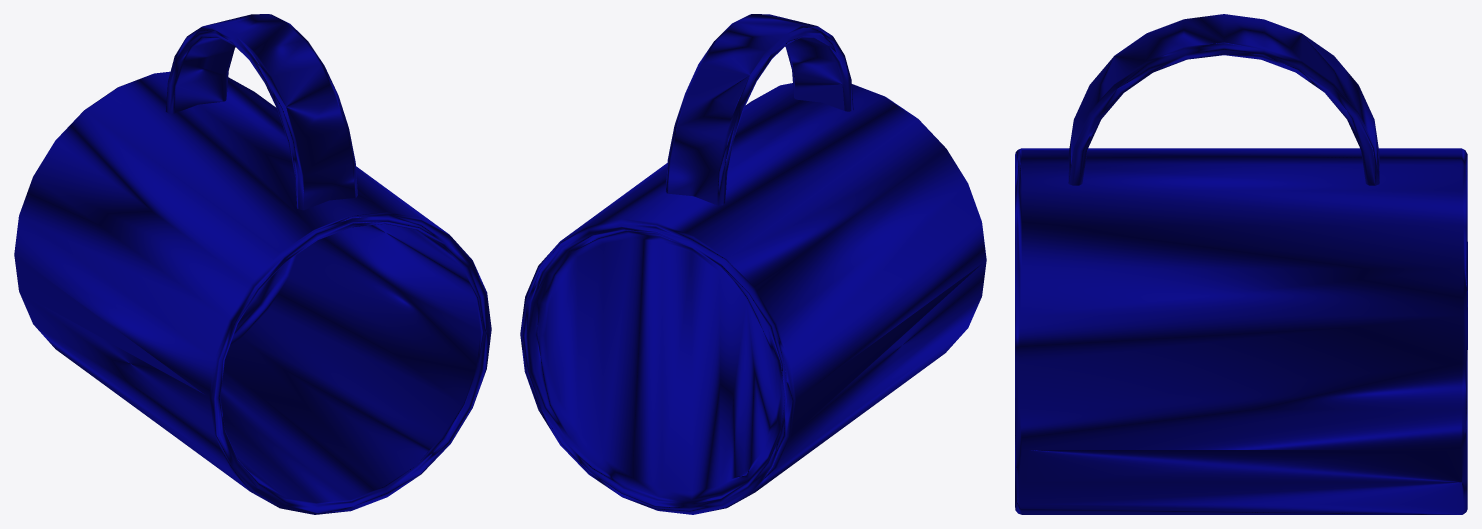
Rendered from model_align.obj.
The picture shows the model from 3 angles, left to right: view 1: azimuth 30°, elevation 25°; view 2: azimuth 150°, elevation 25°; view 3: azimuth 270°, elevation 25°; orthographic projection. The views are drawn at different scales.
Size of the model in its own units: 0.0819 by 0.1155 by 0.1007.
